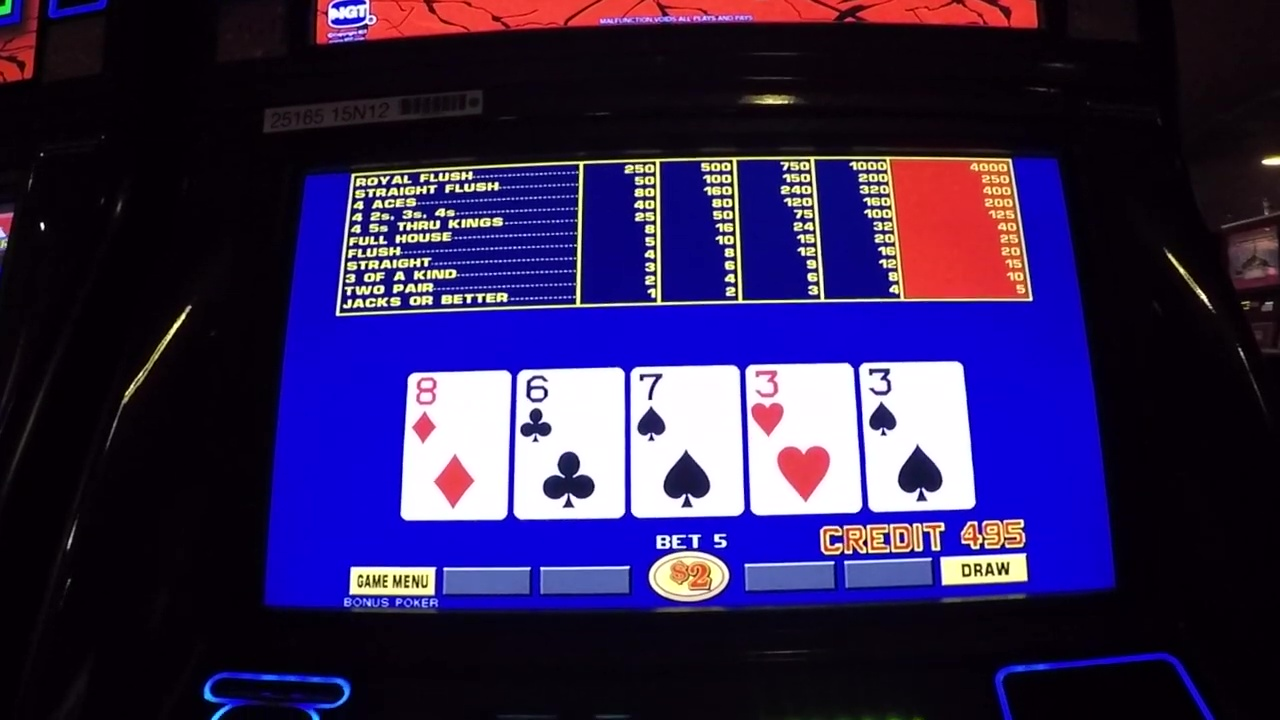C6: (518, 371, 622, 446)
D8: (411, 374, 511, 446)
H3: (753, 366, 854, 441)
S3: (865, 362, 963, 439)
S7: (633, 368, 741, 443)
